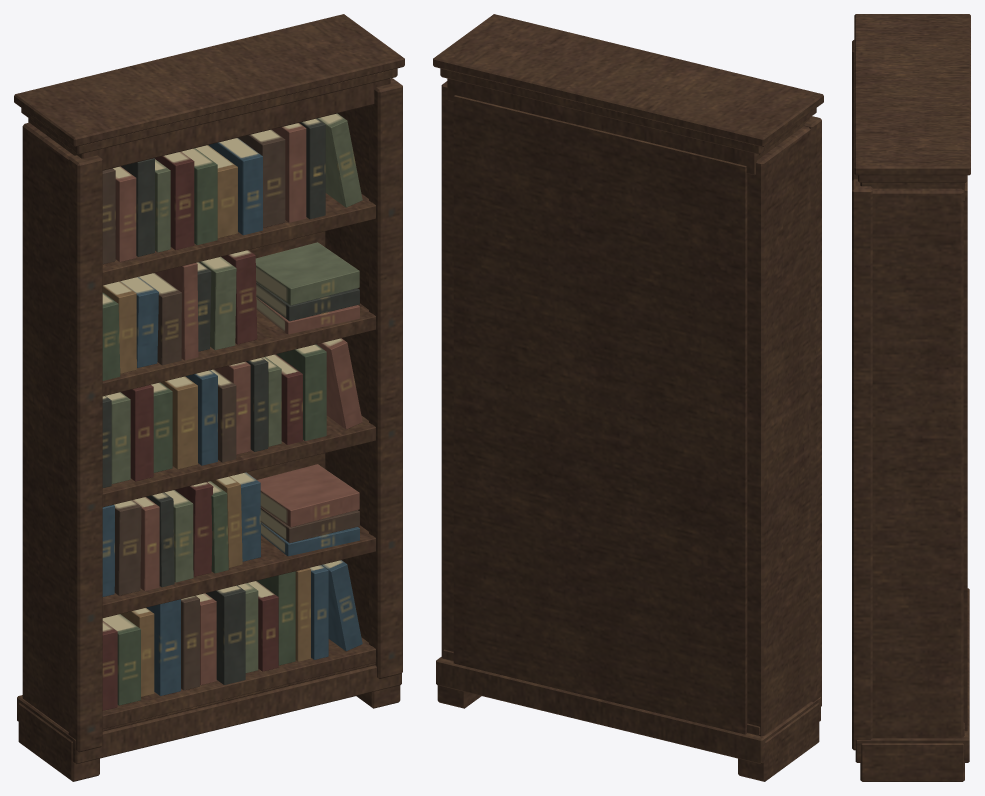
File: appearance.glb
3 renders of one model, left to right at view 1: azimuth 30°, elevation 25°; view 2: azimuth 150°, elevation 25°; view 3: azimuth 270°, elevation 25°, orthographic. The views are drawn at different scales.
Visible parts, largest first — view 1: WallHeightBookshelf; view 2: WallHeightBookshelf; view 3: WallHeightBookshelf.
Part boxes in pixels (x1,y1,x2,y2): WallHeightBookshelf: (14, 14, 404, 781); WallHeightBookshelf: (433, 14, 823, 781); WallHeightBookshelf: (852, 14, 970, 781).
Size of the model in its own units: 1.5 by 2.8 by 0.4895.
1 material, 1 textured.
